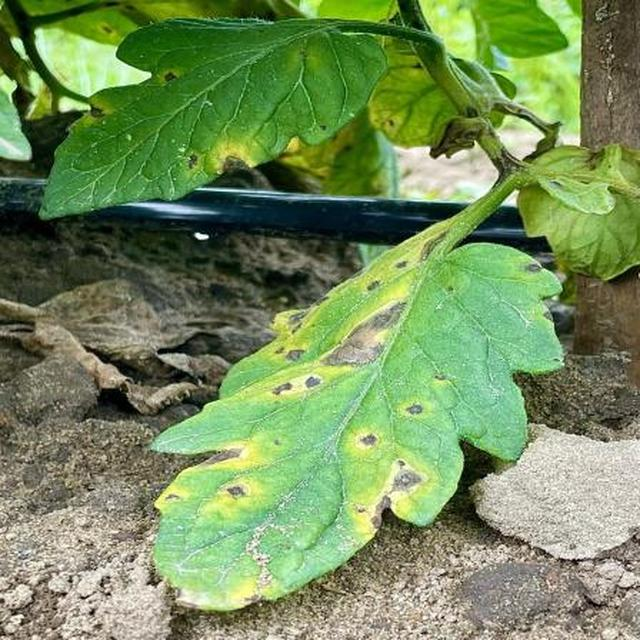Early Blight Leaf: (302, 167, 613, 609)
